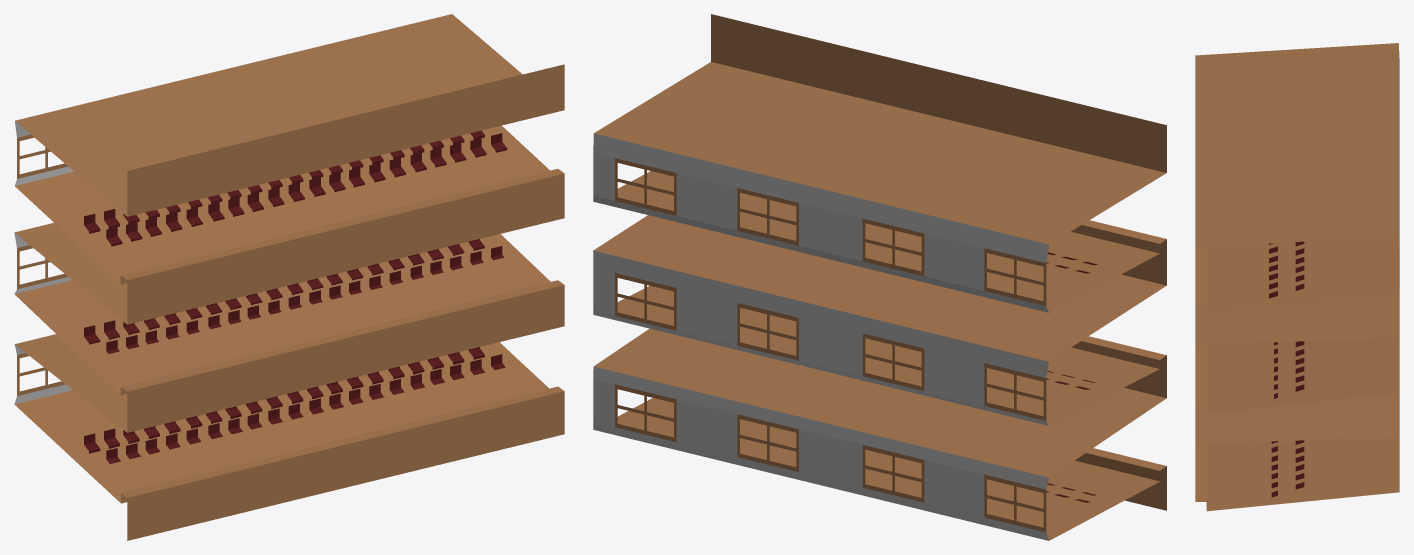
Rendered from GymWall2.fbx.
The picture shows the model from 3 angles, left to right: view 1: azimuth 30°, elevation 25°; view 2: azimuth 150°, elevation 25°; view 3: azimuth 270°, elevation 25°; orthographic projection. The views are drawn at different scales.
Parts seen in each view (by area): view 1: 평면.001; view 2: 평면.001; view 3: 평면.001.
Boxes of the visible parts, box(x1,y1,x2,y2) form: 평면.001: box(14, 14, 564, 540); 평면.001: box(593, 14, 1166, 540); 평면.001: box(1195, 43, 1399, 511).
Size of the model in its own units: 2222 by 1796 by 995.
